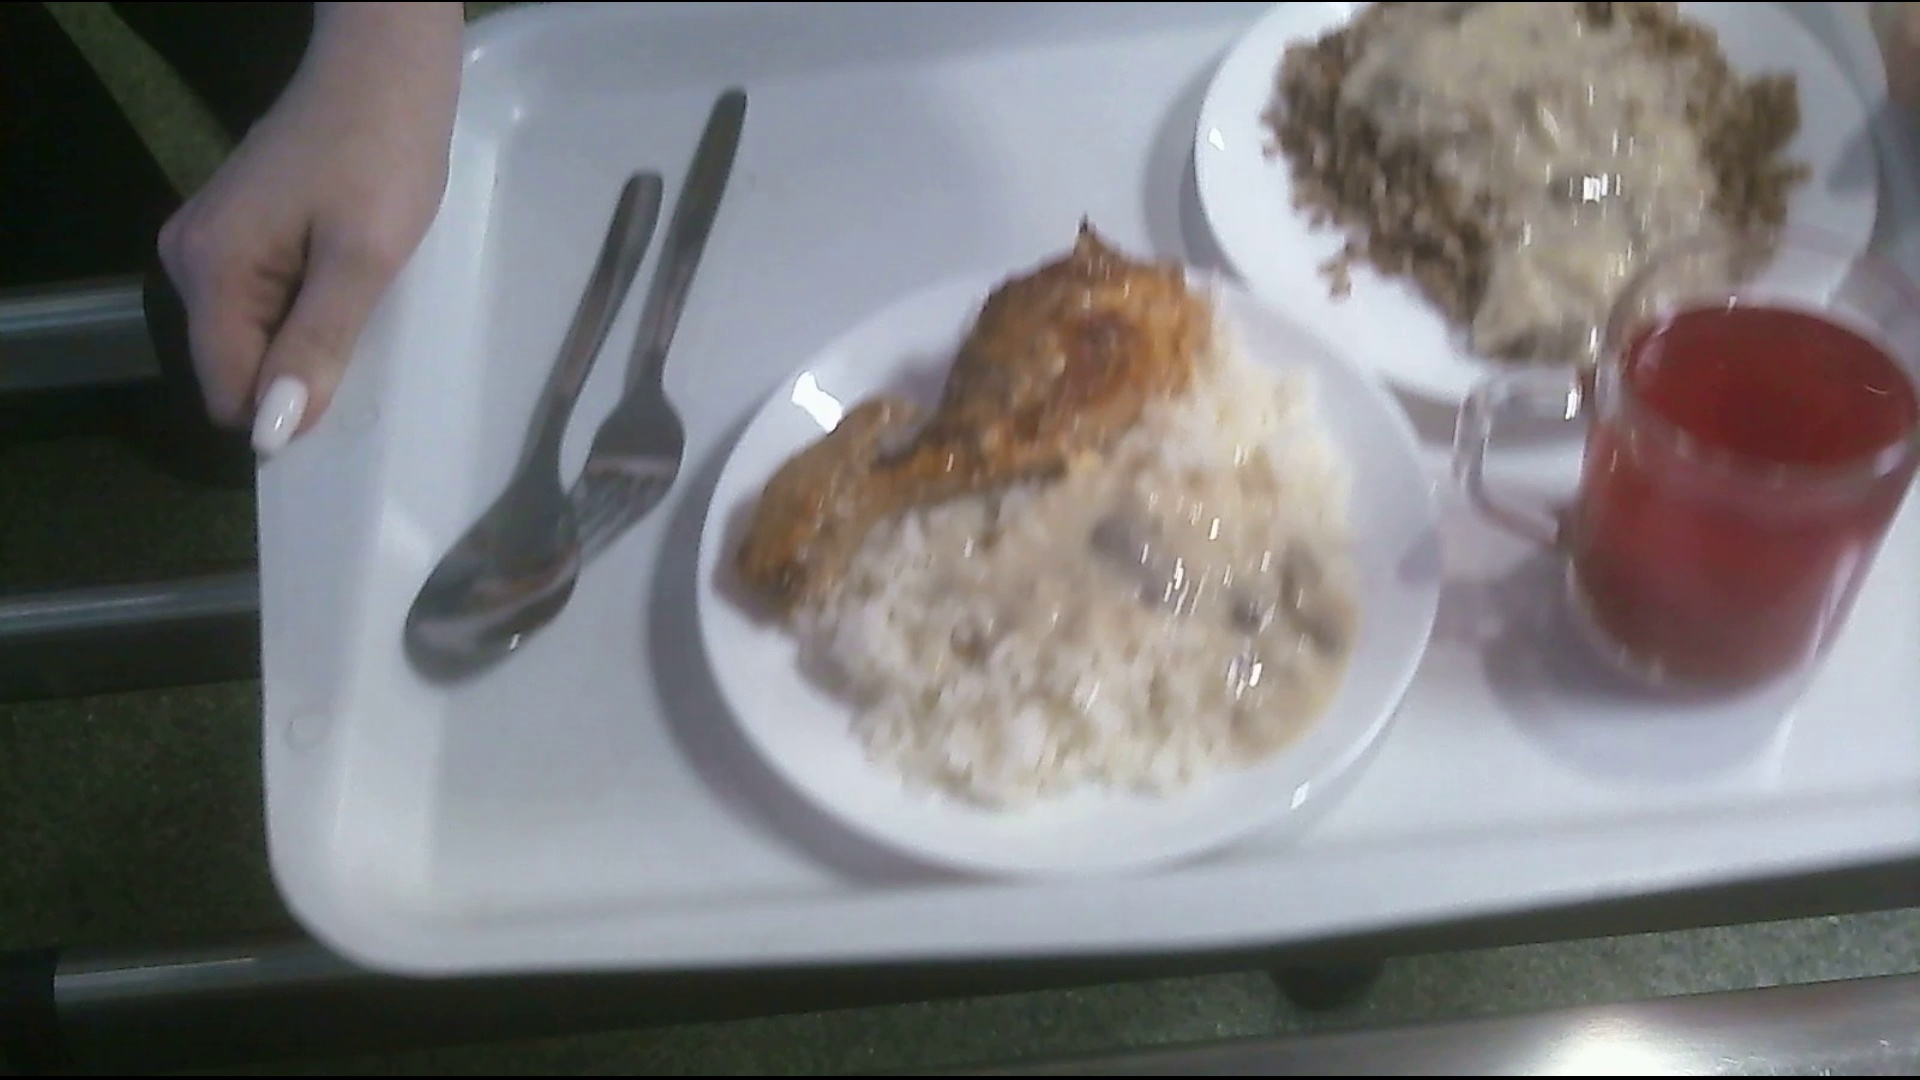cutlery: (405, 171, 669, 674), (578, 87, 742, 549)
drink: (1464, 244, 1920, 711)
plate: (694, 243, 1443, 865), (1197, 3, 1873, 310)
